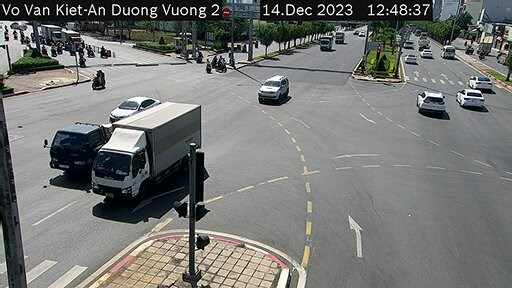car: (99, 96, 163, 121), (255, 74, 294, 108), (409, 91, 453, 114), (457, 89, 495, 108), (473, 76, 502, 93), (406, 51, 420, 76), (442, 42, 453, 63), (421, 44, 430, 59)
motorbike: (90, 65, 112, 98), (217, 54, 231, 75), (204, 58, 213, 77)
truck: (100, 111, 200, 179), (42, 112, 111, 172), (37, 23, 62, 44), (60, 30, 83, 49), (332, 30, 345, 49), (318, 35, 329, 57)
